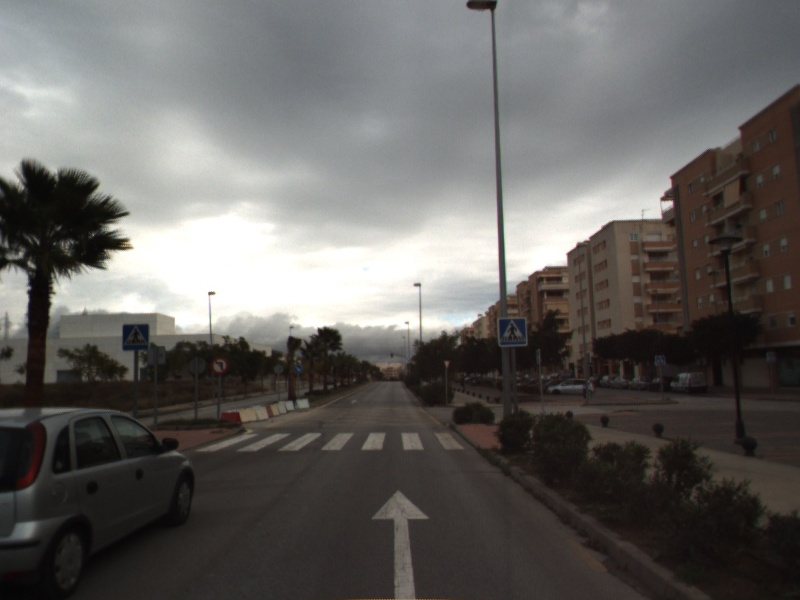STRAIGHT: (369, 487, 432, 600)
